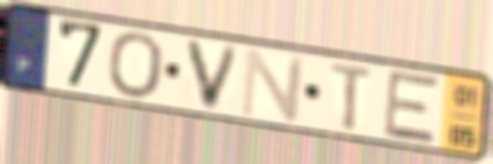7: (56, 16, 105, 93)
E: (380, 67, 443, 147)
N: (238, 46, 309, 124)
O: (105, 30, 166, 102)
T: (328, 60, 376, 133)
V: (181, 36, 244, 115)
